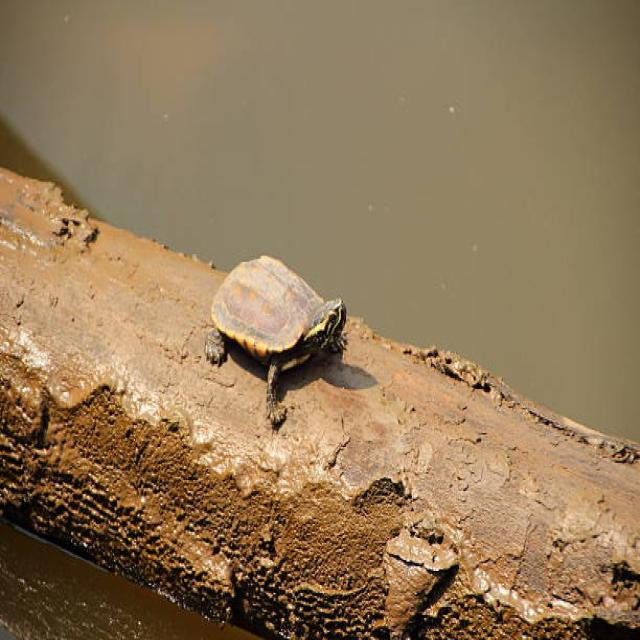terrapin: (195, 230, 373, 440), (311, 278, 345, 355)
